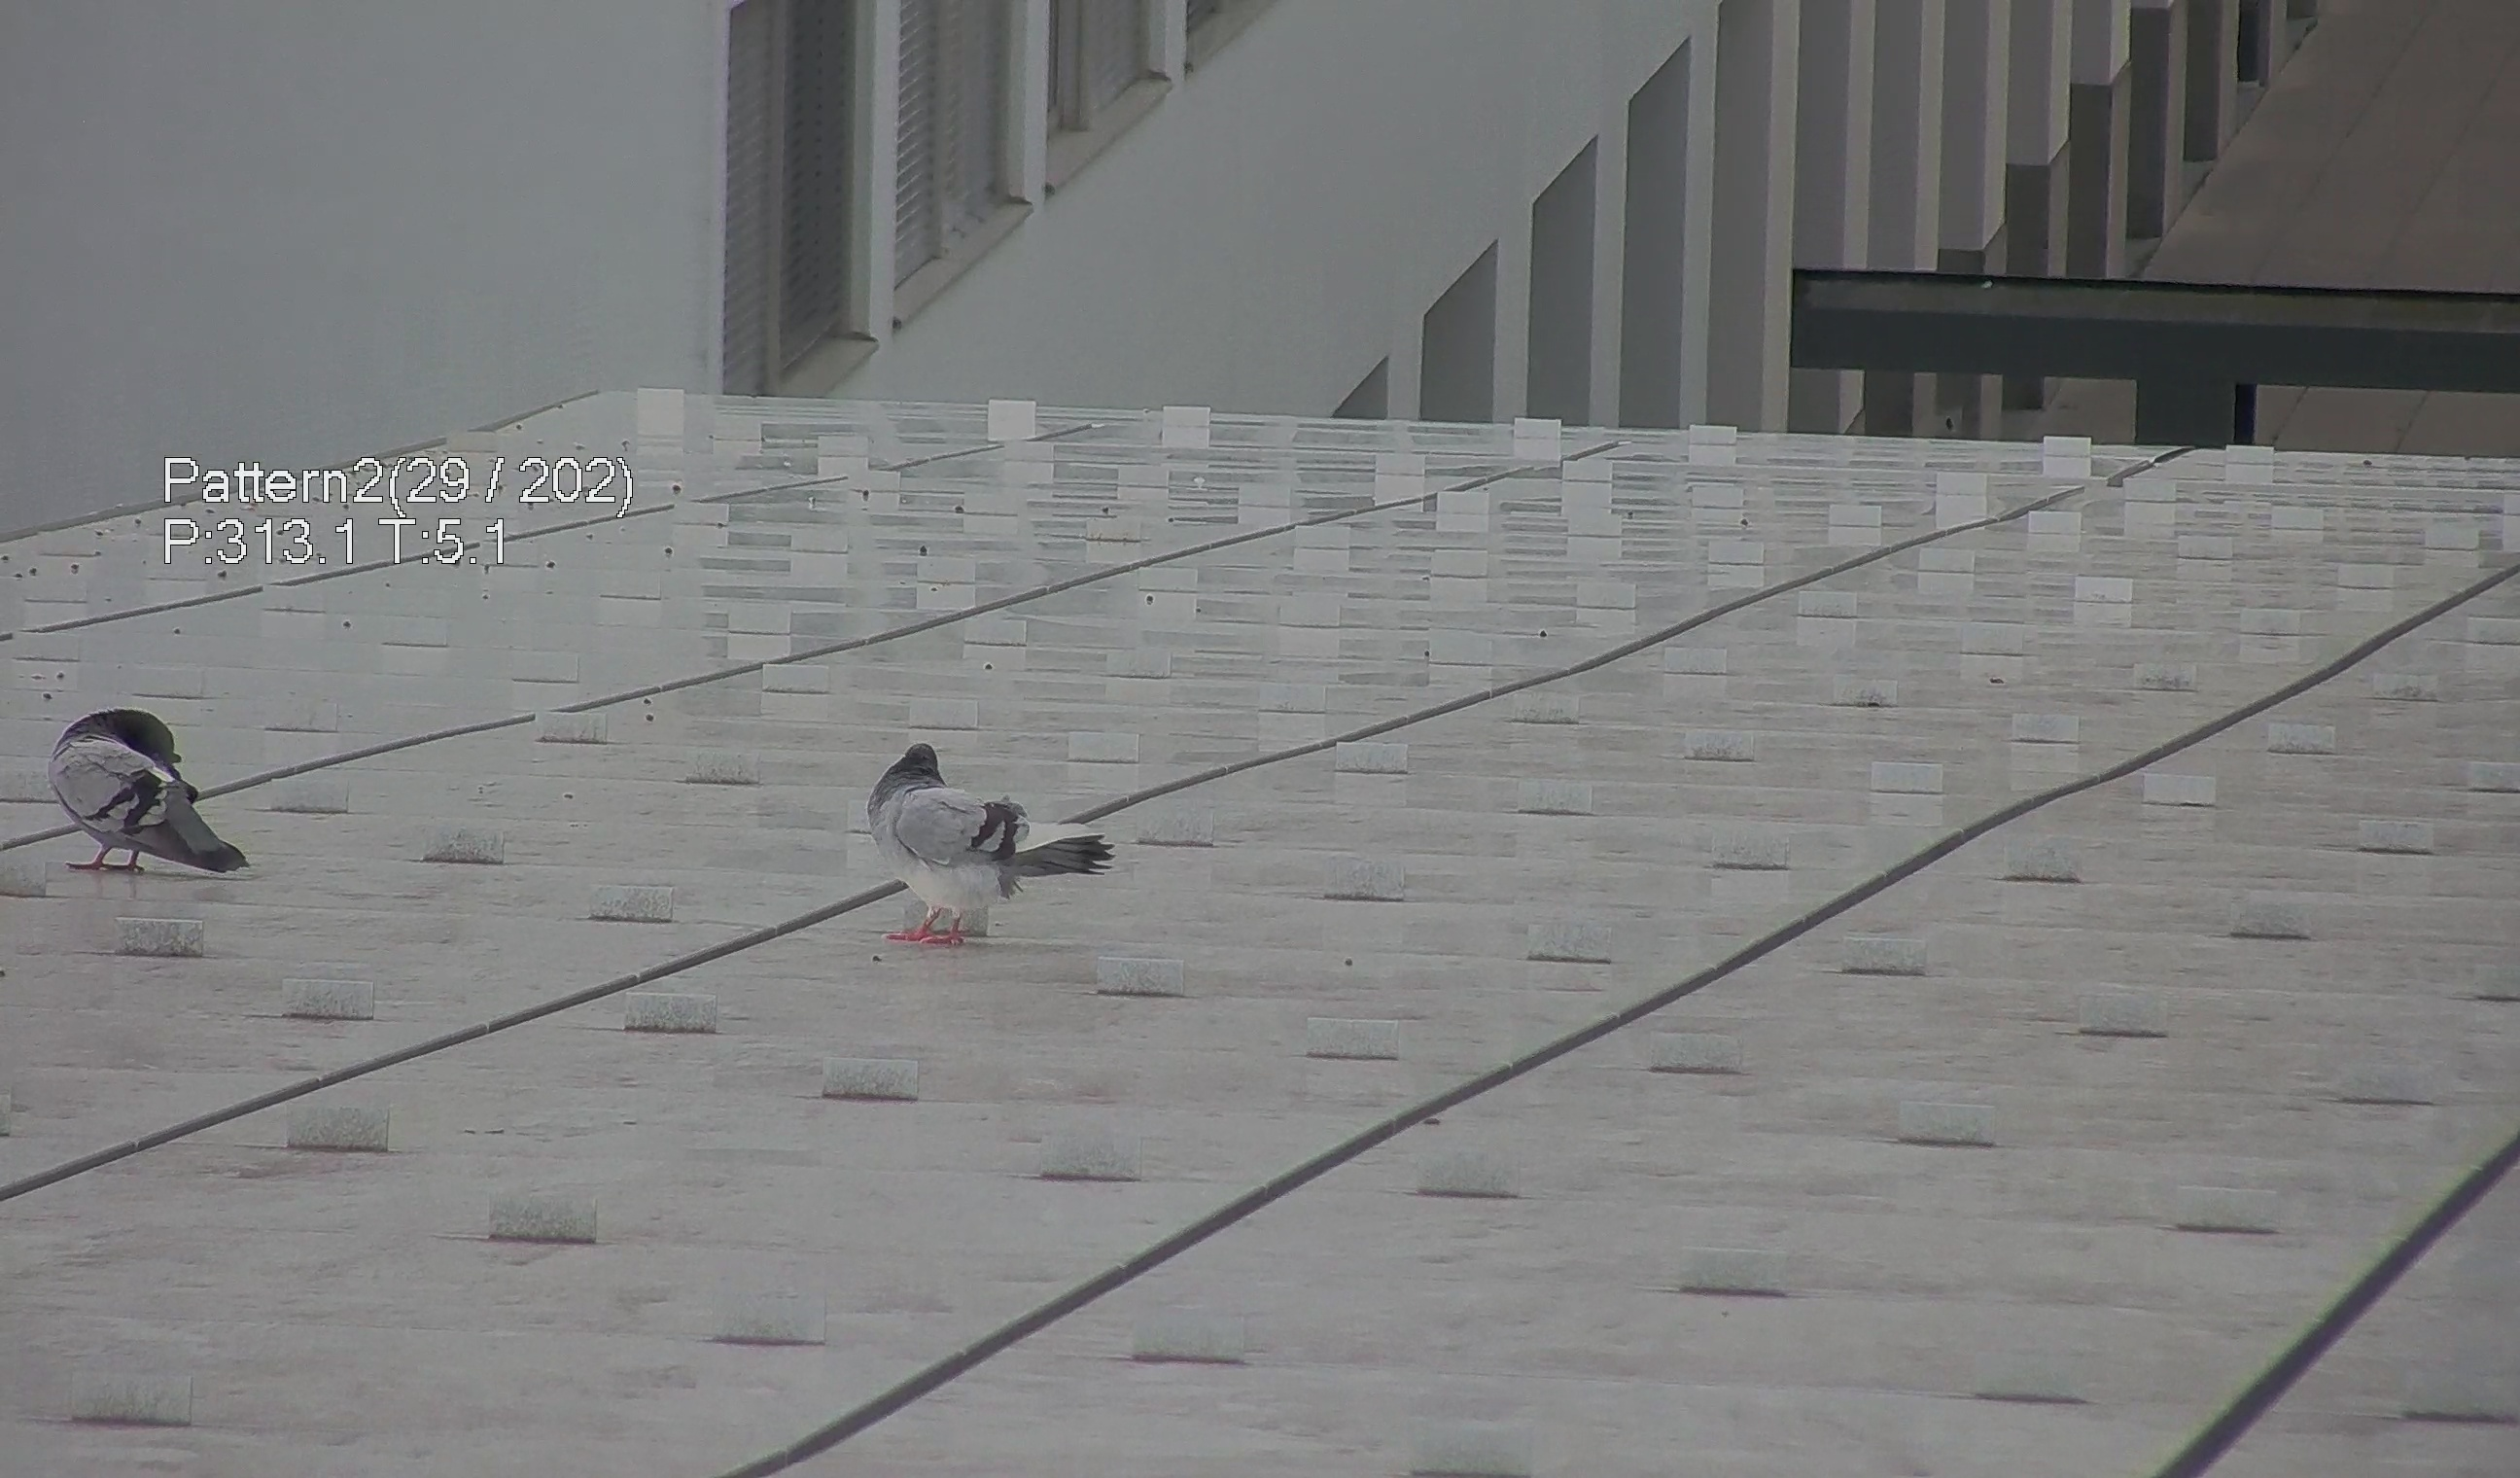Pigeon: (844, 741, 1111, 947), (60, 693, 264, 885)
